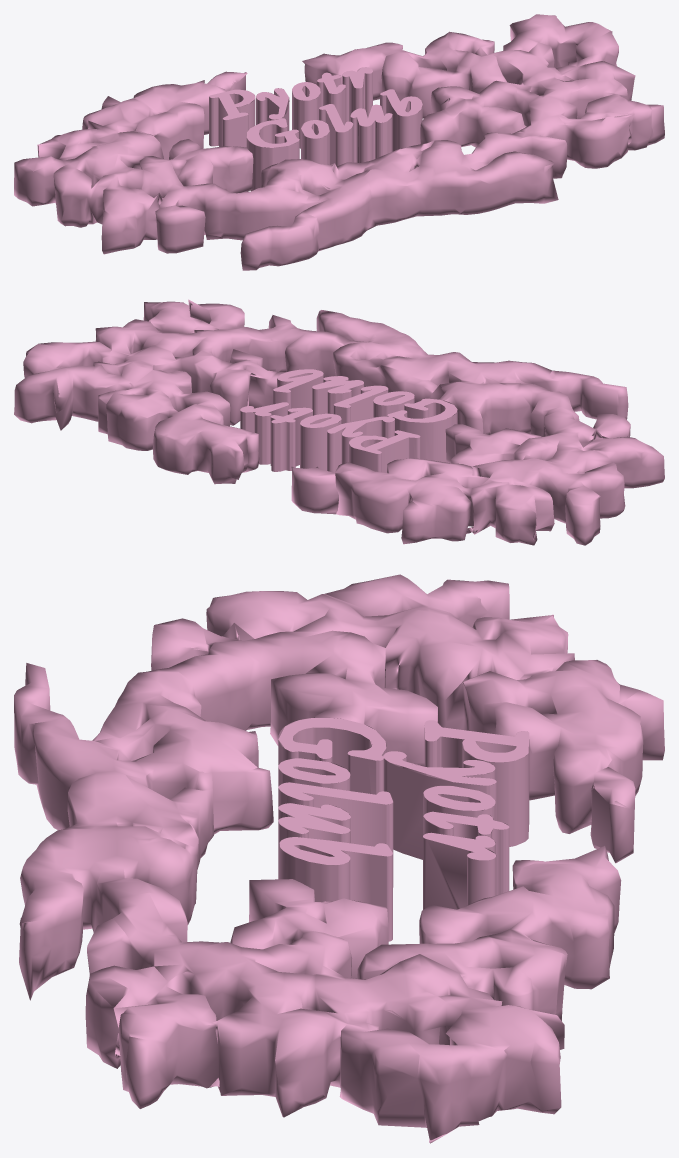
Rendered from peter.glb.
3 renders of one model, top to bottom at view 1: azimuth 30°, elevation 25°; view 2: azimuth 150°, elevation 25°; view 3: azimuth 270°, elevation 25°, orthographic. The views are drawn at different scales.
Parts seen in each view (by area): view 1: Curve.006; view 2: Curve.006; view 3: Curve.006.
Part boxes in pixels (x1=…): Curve.006: x1=14, y1=14, x2=664, y2=270; Curve.006: x1=14, y1=299, x2=664, y2=545; Curve.006: x1=14, y1=574, x2=664, y2=1143.
Size of the model in its own units: 1.93 by 0.1689 by 1.05.
